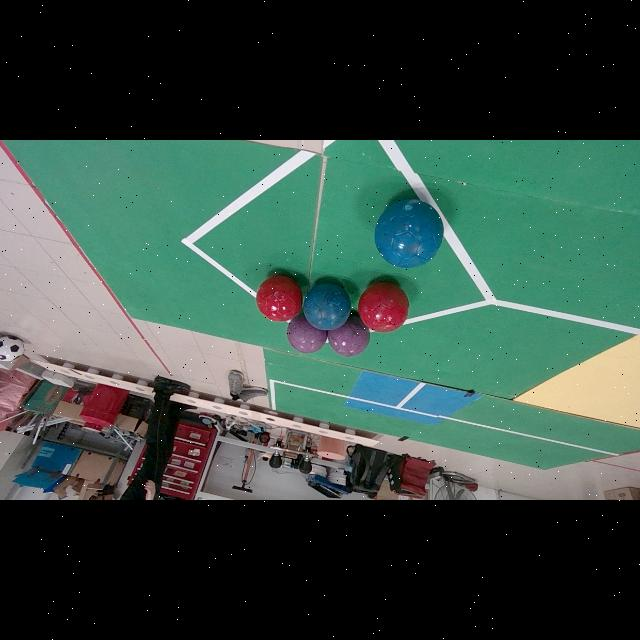B: (374, 198, 444, 268), (303, 282, 351, 329)
P: (327, 312, 370, 357), (286, 313, 327, 352)
R: (358, 281, 409, 333), (257, 274, 302, 322)
